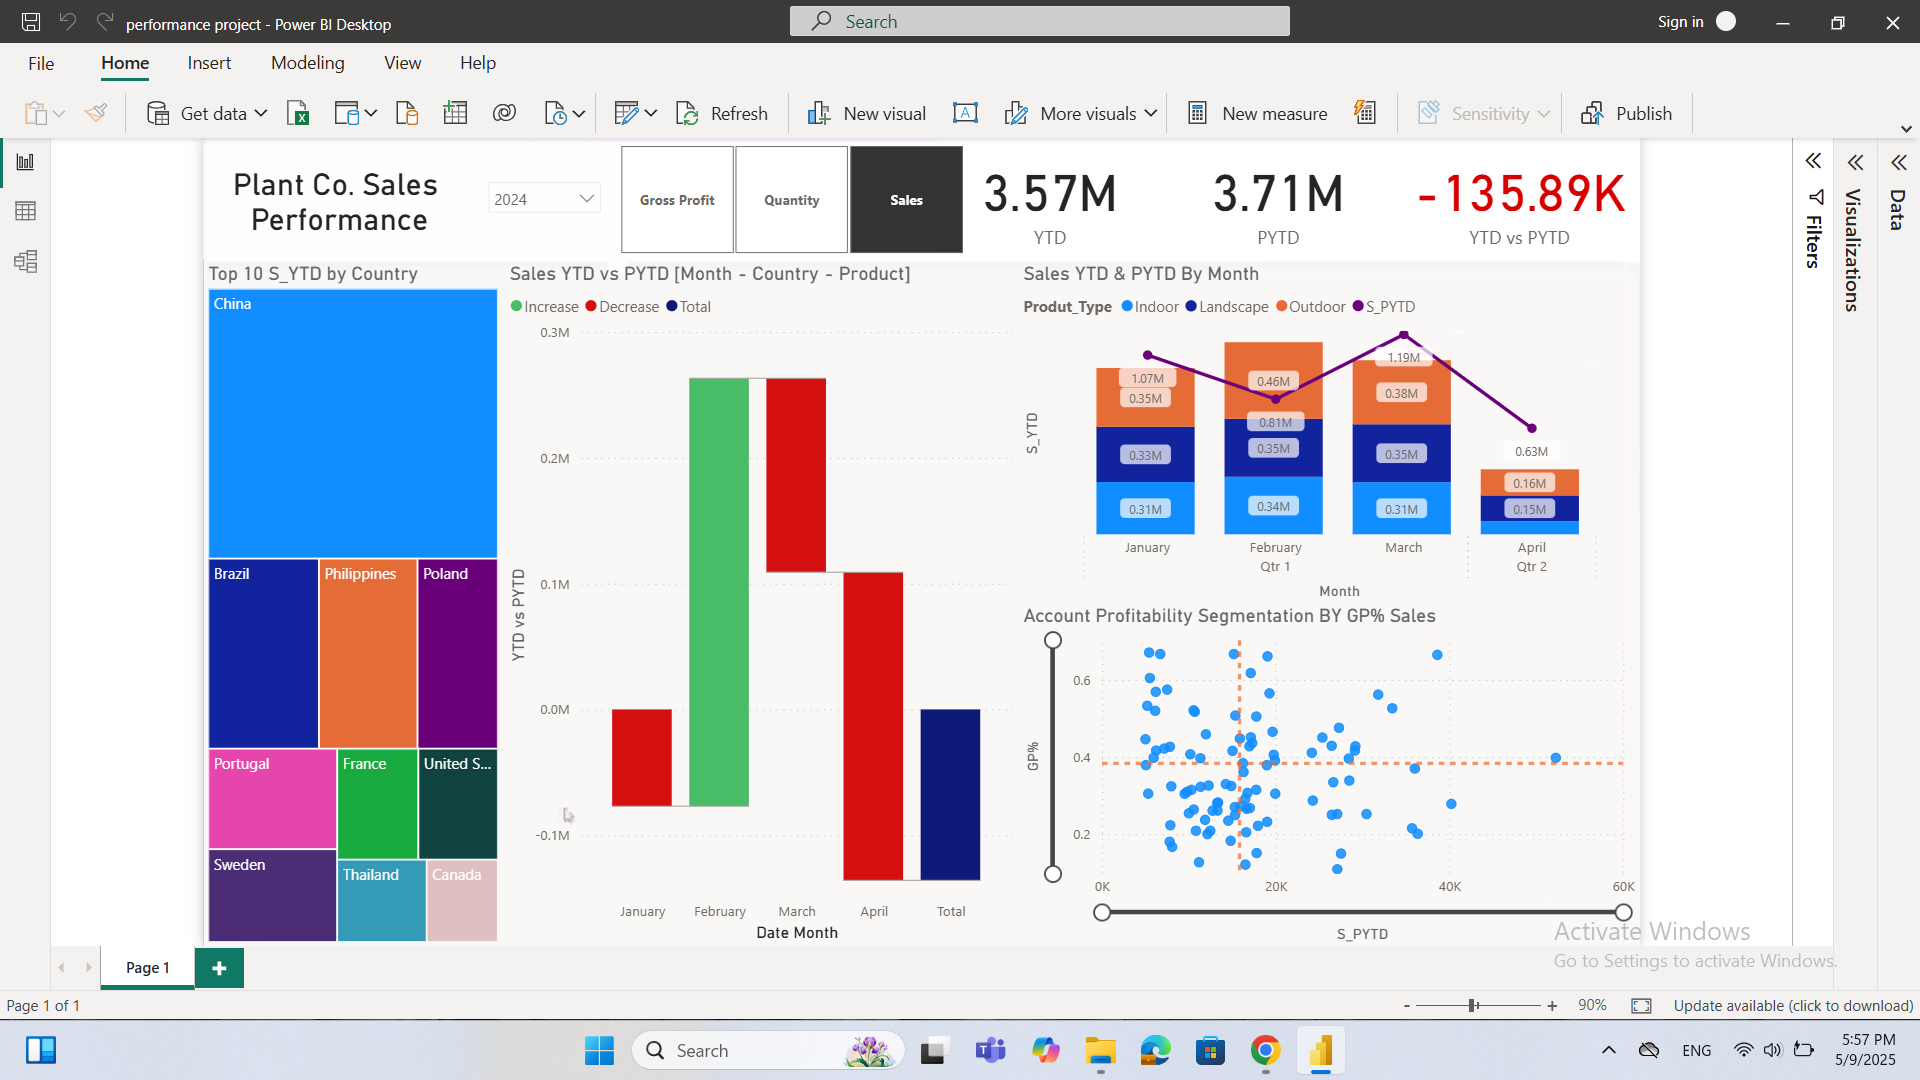

Layout of this report page (visuals, bound fields, positions):
{"tool":"powerbi","page":{"name":"Page 1","canvas":[1280,720],"ordinal":0},"visuals":[{"type":"card","fields":{"Values":["Mesures.YTD vs PYTD"]},"box":[1064.9,0,214.7,109.7],"z":0},{"type":"card","fields":{"Values":["Mesures.S_PYTD"]},"box":[850.3,0,214.7,109.7],"z":1000},{"type":"card","fields":{"Values":["Mesures.YTD_Sales"]},"box":[654.9,0,200.2,109.7],"z":2000},{"type":"slicer","fields":{"Values":["Slicer Values.Values"]},"box":[346.1,0,354.6,109.7],"z":3000},{"type":"slicer","fields":{"Values":["Dim_Date.Date.Variation.Date Hierarchy.Year"]},"box":[243.6,28.9,120.6,51.9],"z":4000},{"type":"waterfallChart","fields":{"Y":["Mesures.YTD vs PYTD"],"Category":["Dim_Date.Date.Variation.Date Hierarchy.Month","Dim_Account.country","Dim_Product.Produt_Type","Dim_Product.Product_Name_id"]},"box":[267.7,109.7,458.3,610.3],"z":5000},{"type":"treemap","title":"Top 10 S_YTD by Country","fields":{"Values":["Mesures.S_YTD"],"Group":["Dim_Account.country"]},"box":[0,109.7,267.7,610.3],"z":6000},{"type":"lineStackedColumnComboChart","fields":{"Y":["Mesures.S_YTD"],"Y2":["Mesures.S_PYTD"],"Series":["Dim_Product.Produt_Type"],"Category":["Dim_Date.Date.Variation.Date Hierarchy.Quarter","Dim_Date.Date.Variation.Date Hierarchy.Month"]},"box":[726,109.7,553.6,305.1],"z":7000},{"type":"scatterChart","fields":{"Y":["Mesures.GP%"],"X":["Mesures.S_PYTD"],"Category":["Dim_Account.Account"]},"box":[726,415,554,305],"z":8000},{"type":"card","fields":{"Values":["Mesures.title Dashboard"]},"box":[0,0,243.6,109.7],"z":9000}]}

Visuals, with their boxes on the page's 1280x720 design canvas (x1, y1, x2, y2). These are canvas units, not pixel positions in the 1920x1080 screenshot, which may show the page scaled, cropped or inside an application window:
card - Mesures.YTD vs PYTD: BBox(1065, 0, 1280, 110)
card - Mesures.S_PYTD: BBox(850, 0, 1065, 110)
card - Mesures.YTD_Sales: BBox(655, 0, 855, 110)
slicer - Slicer Values.Values: BBox(346, 0, 701, 110)
slicer - Dim_Date.Date.Variation.Date Hierarchy.Year: BBox(244, 29, 364, 81)
waterfallChart - Mesures.YTD vs PYTD x Dim_Date.Date.Variation.Date Hierarchy.Month: BBox(268, 110, 726, 720)
"Top 10 S_YTD by Country" treemap: BBox(0, 110, 268, 720)
lineStackedColumnComboChart - Mesures.S_YTD x Mesures.S_PYTD: BBox(726, 110, 1280, 415)
scatterChart - Mesures.GP% x Mesures.S_PYTD: BBox(726, 415, 1280, 720)
card - Mesures.title Dashboard: BBox(0, 0, 244, 110)
